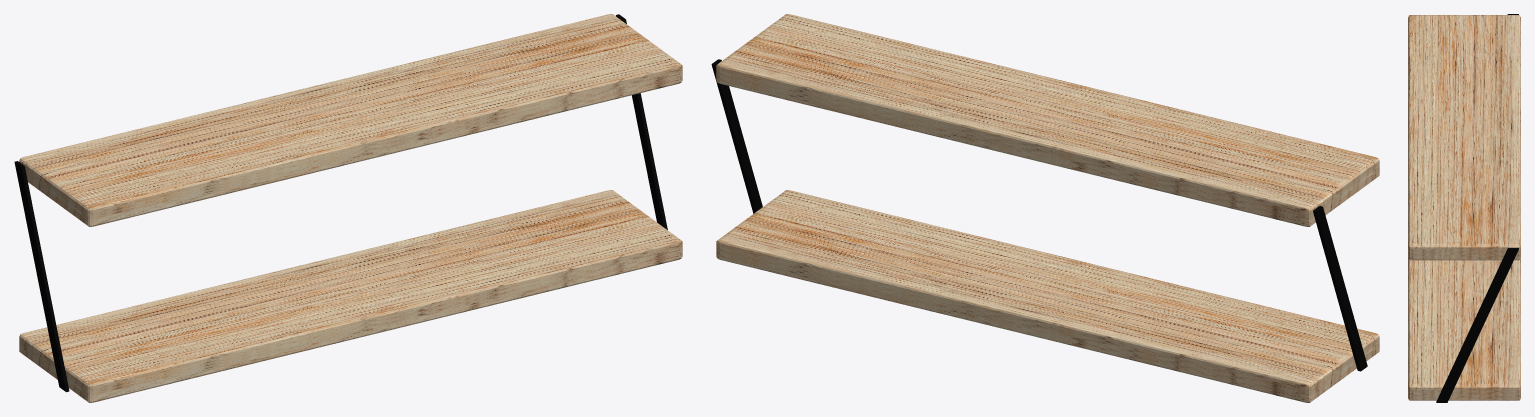
The model's file is Theme01_Shelf.fbx.
The picture shows the model from 3 angles, left to right: view 1: azimuth 30°, elevation 25°; view 2: azimuth 150°, elevation 25°; view 3: azimuth 270°, elevation 25°; orthographic projection. The views are drawn at different scales.
Visible parts, largest first — view 1: Shelf.001; view 2: Shelf.001; view 3: Shelf.001.
Boxes of the visible parts, x1=… form: Shelf.001: x1=14, y1=14, x2=682, y2=402; Shelf.001: x1=711, y1=14, x2=1379, y2=402; Shelf.001: x1=1408, y1=14, x2=1520, y2=402.
Size of the model in its own units: 4.67 by 1.44 by 0.9462.
Materials: 2 (1 with a texture image).
